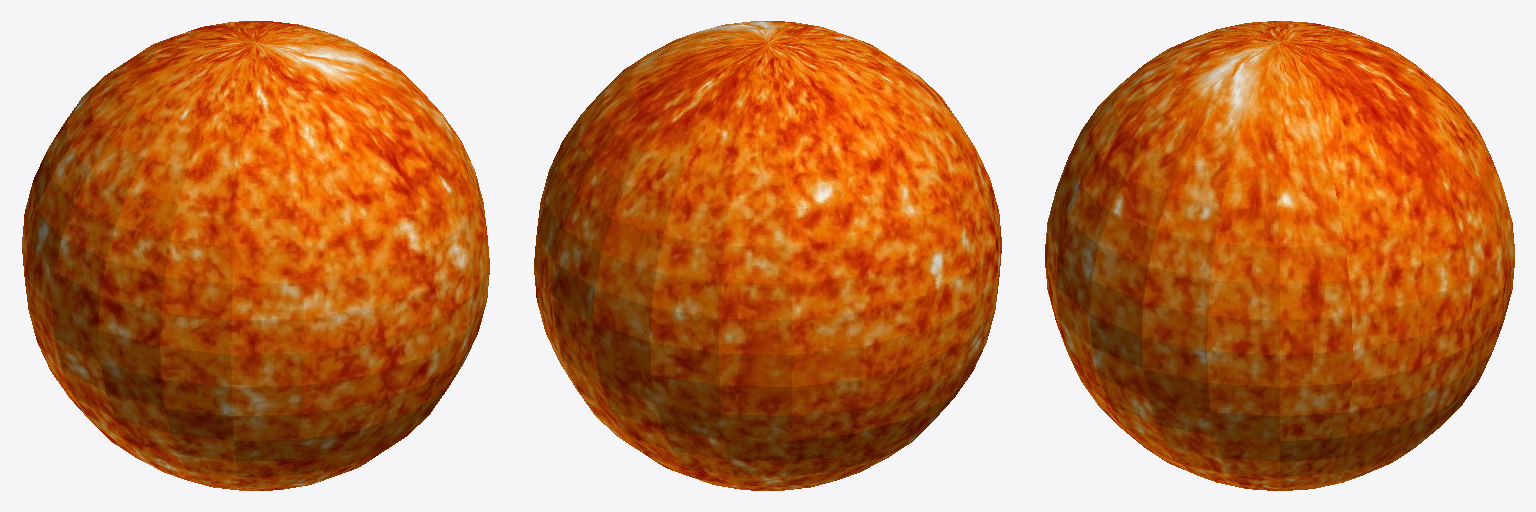
3 views of the same model, side by side, from view 1: azimuth 30°, elevation 25°; view 2: azimuth 150°, elevation 25°; view 3: azimuth 270°, elevation 25° (orthographic).
Visible parts, largest first — view 1: Sol; view 2: Sol; view 3: Sol.
Boxes of the visible parts, <box> form: Sol: <box>22,21,489,490</box>; Sol: <box>534,21,1001,490</box>; Sol: <box>1045,21,1514,490</box>.
Size of the model in its own units: 9 by 9 by 9.
Materials: 1 (1 with a texture image).